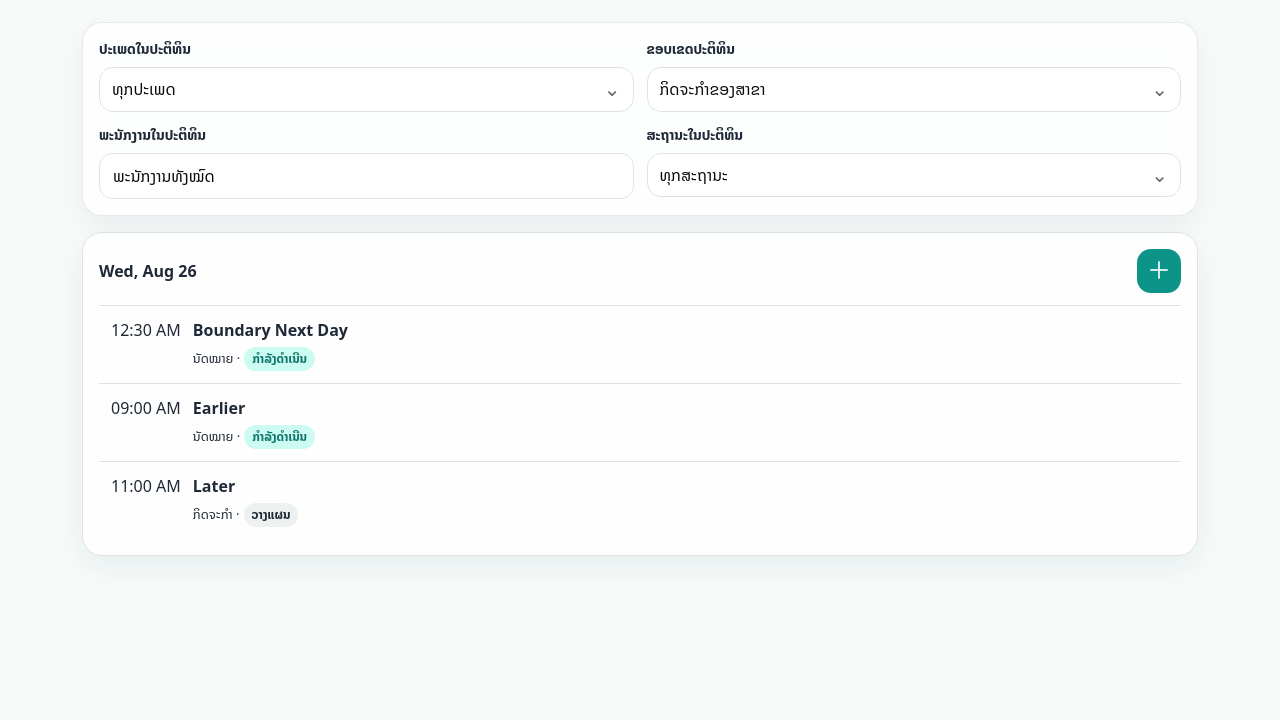
CalendarPage shared filters and agenda › uses shared select controls for calendar filters and shows the empty state
Click the dropdown named "ສະຖານະໃນປະຕິທິນ" at (694, 175), box [646,153,1181,197]
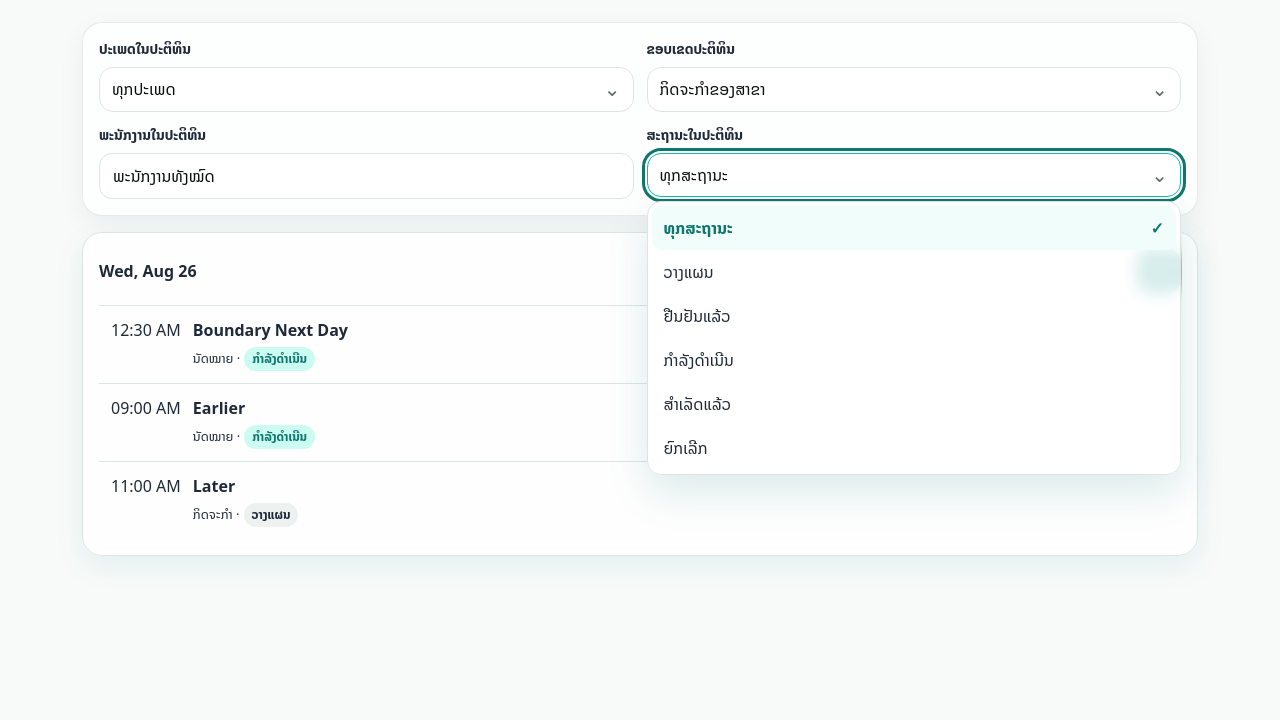
Click the option "ສຳເລັດແລ້ວ" at (697, 404), box [652,382,1176,426]
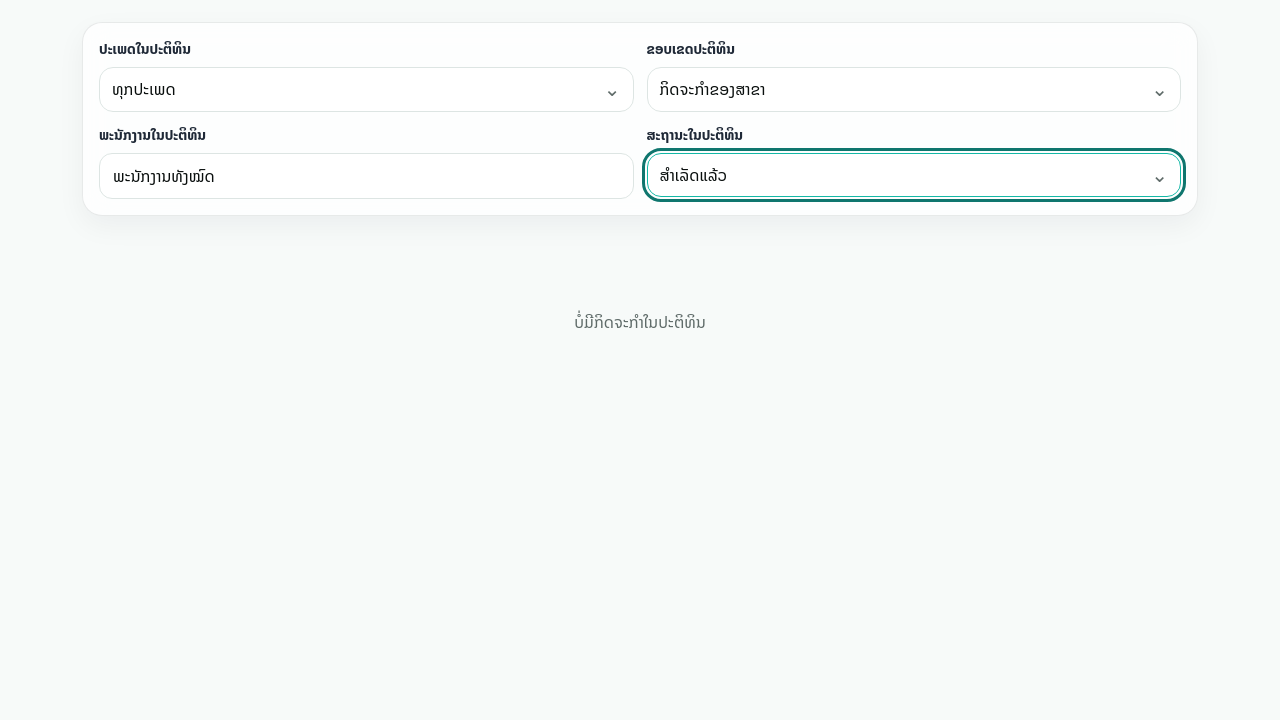
Result: the text "ບໍ່ມີກິດຈະກຳໃນປະຕິທິນ" is shown at [574,309,706,335]
